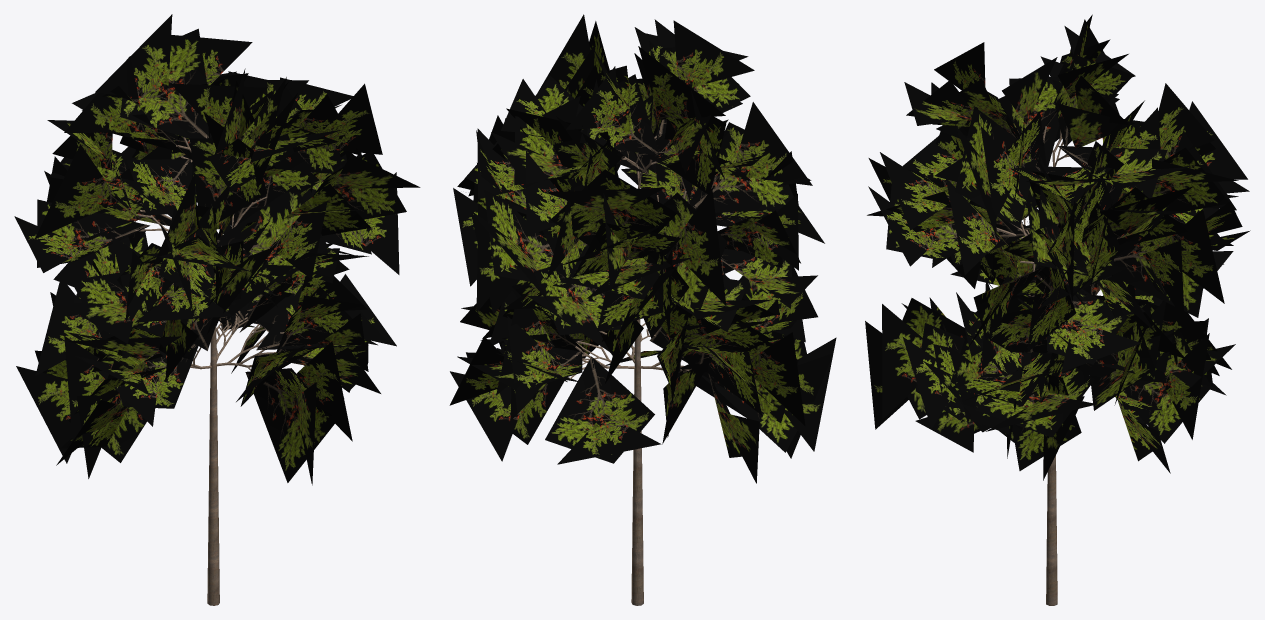
Rendered from ashTree.glb.
3 views of the same model, side by side, from view 1: azimuth 30°, elevation 25°; view 2: azimuth 150°, elevation 25°; view 3: azimuth 270°, elevation 25° (orthographic).
Visible parts, largest first — view 1: AshTree_1; view 2: AshTree_1; view 3: AshTree_1.
Boxes of the visible parts, box(x1,y1,x2,y2) form: AshTree_1: box(14, 14, 420, 605); AshTree_1: box(449, 14, 836, 605); AshTree_1: box(865, 14, 1250, 605).
Bounding box in the file's own units: 8.52 × 14.16 × 8.55.
2 materials, 2 textured.
